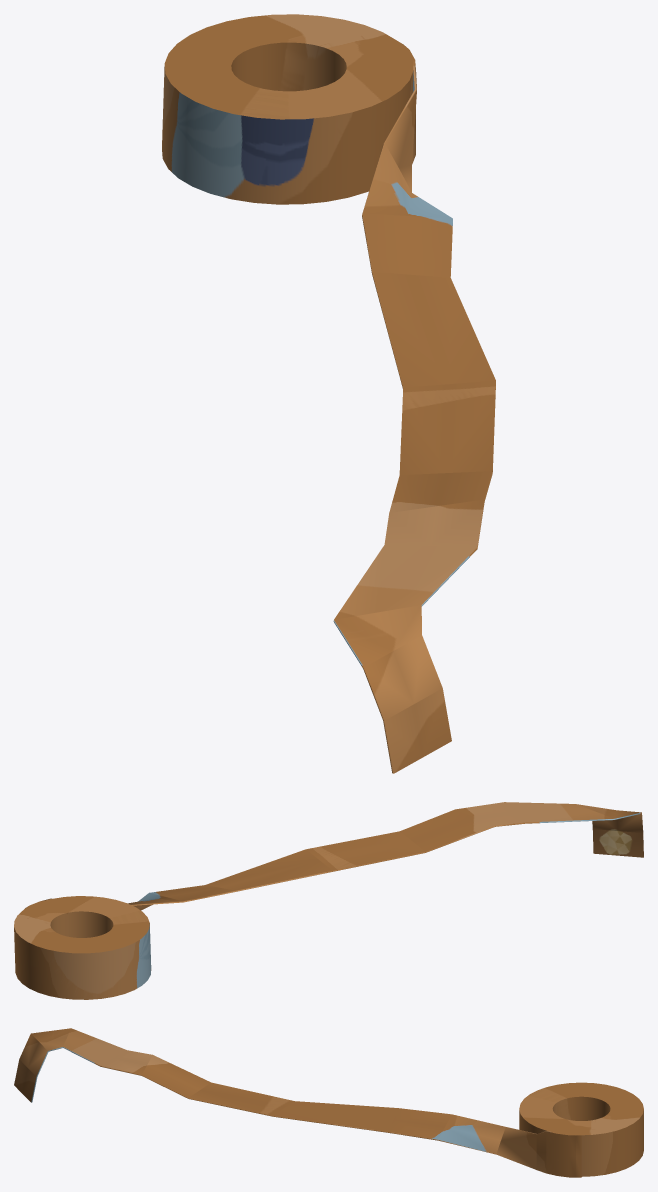
The model's file is Ruler_low.fbx.
The picture shows the model from 3 angles, top to bottom: view 1: azimuth 30°, elevation 25°; view 2: azimuth 150°, elevation 25°; view 3: azimuth 270°, elevation 25°; orthographic projection. The views are drawn at different scales.
Parts seen in each view (by area): view 1: Ribbon; view 2: Ribbon; view 3: Ribbon.
Part boxes in pixels (x1,y1,x2,y2): Ribbon: (162,14,495,773); Ribbon: (14,802,643,999); Ribbon: (14,1028,643,1177).
Size of the model in its own units: 542 by 158 by 1010.
